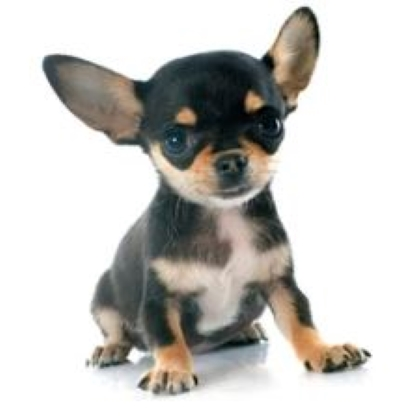chihuahua: (38, 4, 371, 395)
